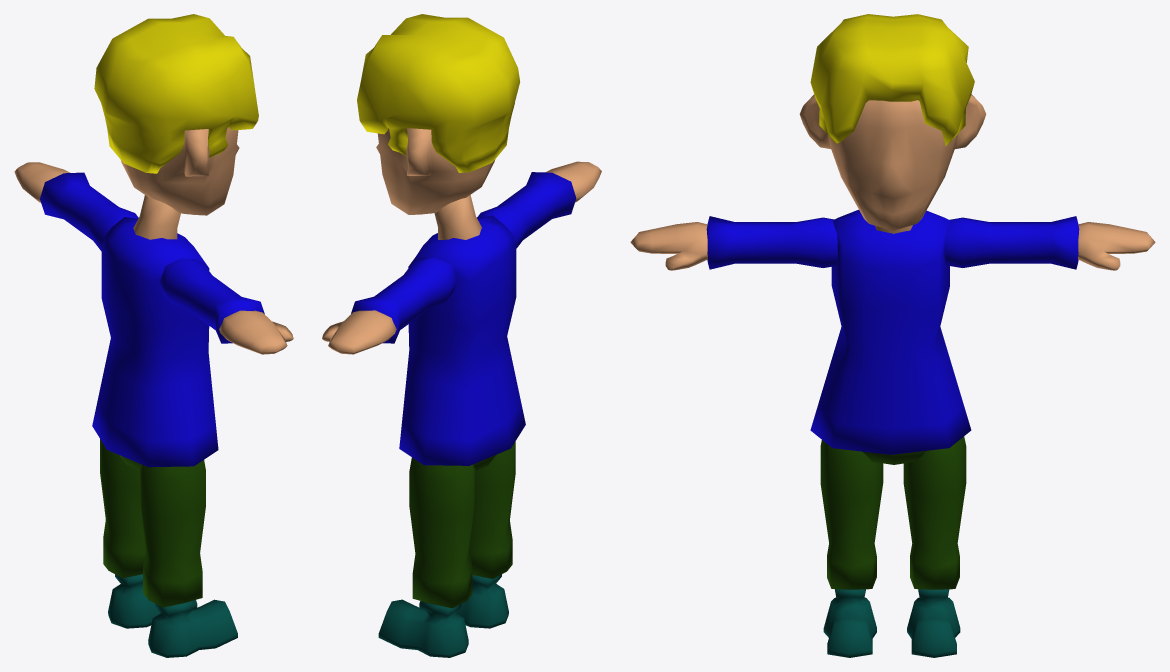
The model's file is Hisqie.fbx.
3 views of the same model, side by side, from view 1: azimuth 30°, elevation 25°; view 2: azimuth 150°, elevation 25°; view 3: azimuth 270°, elevation 25° (orthographic). The views are drawn at different scales.
Visible parts, largest first — view 1: Cube; view 2: Cube; view 3: Cube.
Boxes of the visible parts, left/top/right/bottom form: Cube: left=14, top=14, right=293, bottom=657; Cube: left=322, top=14, right=601, bottom=657; Cube: left=630, top=14, right=1155, bottom=657.
Size of the model in its own units: 1.93 by 8.41 by 6.48.
